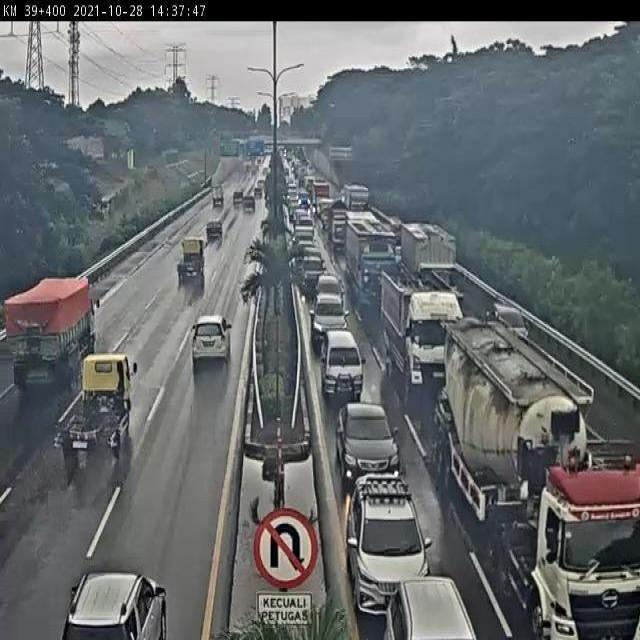big truck: (511, 418, 640, 640), (379, 268, 465, 403), (16, 256, 104, 381), (401, 224, 465, 299), (347, 218, 397, 314)
car: (353, 468, 439, 624), (65, 536, 176, 640), (382, 565, 494, 640), (342, 388, 403, 487), (482, 291, 534, 353), (189, 306, 231, 378), (323, 327, 366, 393), (311, 313, 351, 364), (310, 292, 348, 320), (317, 273, 347, 300), (300, 269, 328, 296)
small truck: (71, 348, 145, 472), (179, 232, 217, 289)
